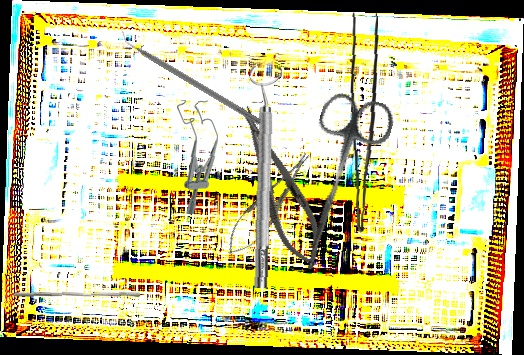Chopper: (114, 25, 267, 126)
Fixation Ring: (241, 65, 285, 289)
Iris Scissors: (280, 87, 398, 269)
Needle Holder: (226, 97, 334, 277), (217, 145, 321, 264)
Pusher: (12, 287, 141, 302)
Speculum: (176, 99, 220, 214)
Tissue Forceps: (346, 10, 389, 233)
